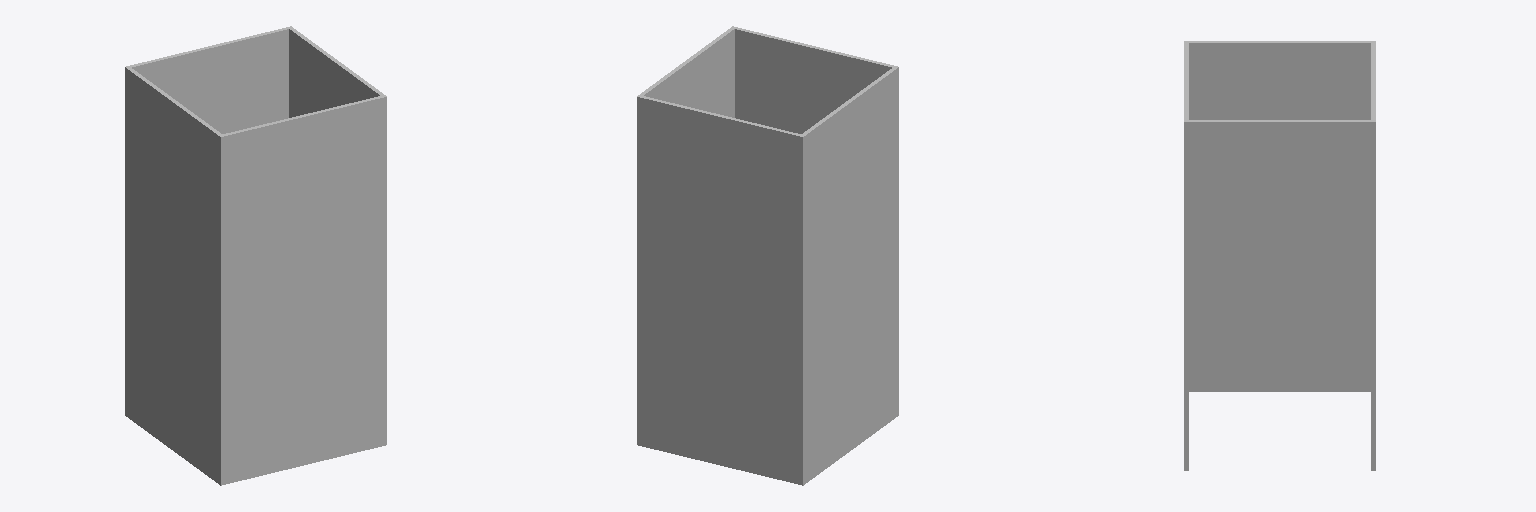
Rendered from feed-the-fish-tower.obj.
The picture shows the model from 3 angles: view 1: azimuth 30°, elevation 25°; view 2: azimuth 150°, elevation 25°; view 3: azimuth 270°, elevation 25°; orthographic projection.
Visible parts, largest first — view 1: Body.010; view 2: Body.010; view 3: Body.010.
Boxes of the visible parts, x1=… form: Body.010: x1=125, y1=26, x2=386, y2=485; Body.010: x1=637, y1=26, x2=898, y2=485; Body.010: x1=1184, y1=41, x2=1375, y2=470.
Bounding box in the file's own units: 200 × 400 × 200.